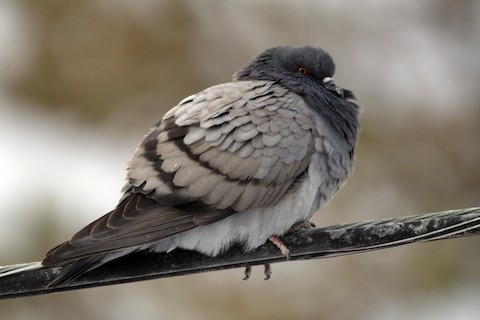pigeon: (38, 41, 362, 298)
